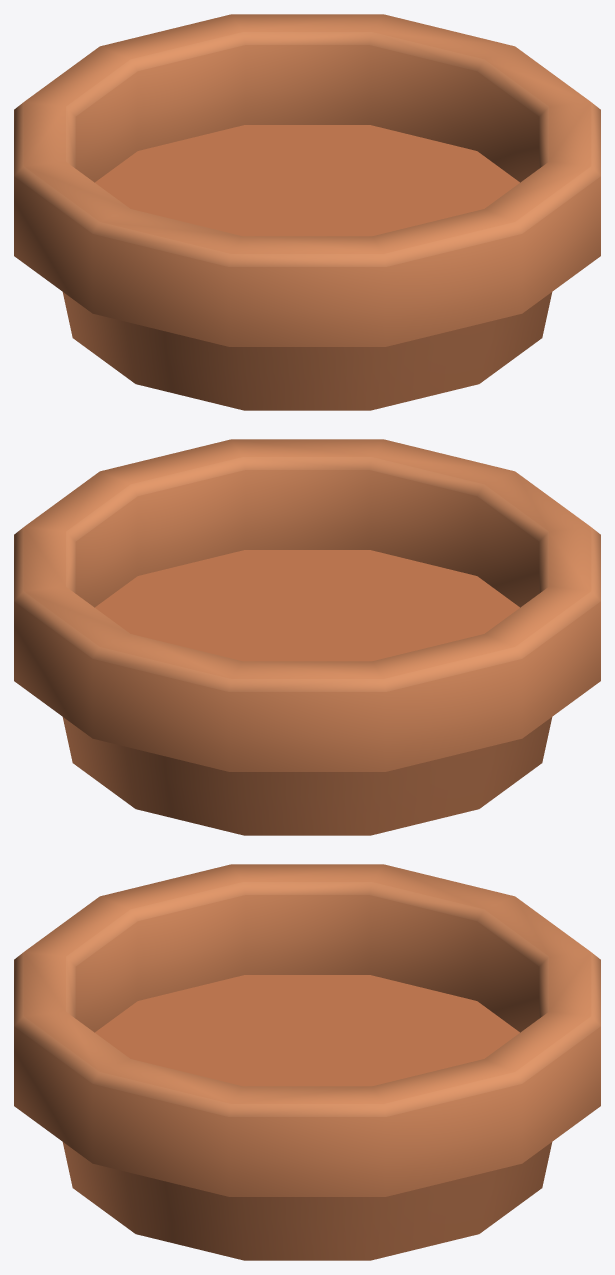
The model's file is Small Saucer.glb.
The picture shows the model from 3 angles, top to bottom: view 1: azimuth 30°, elevation 25°; view 2: azimuth 150°, elevation 25°; view 3: azimuth 270°, elevation 25°; orthographic projection.
Visible parts, largest first — view 1: saucer_A_small; view 2: saucer_A_small; view 3: saucer_A_small.
Boxes of the visible parts, <box> form: saucer_A_small: <box>14,14,600,410</box>; saucer_A_small: <box>14,439,600,835</box>; saucer_A_small: <box>14,864,600,1260</box>.
Size of the model in its own units: 0.6 by 0.2 by 0.6.
1 material, 1 textured.
